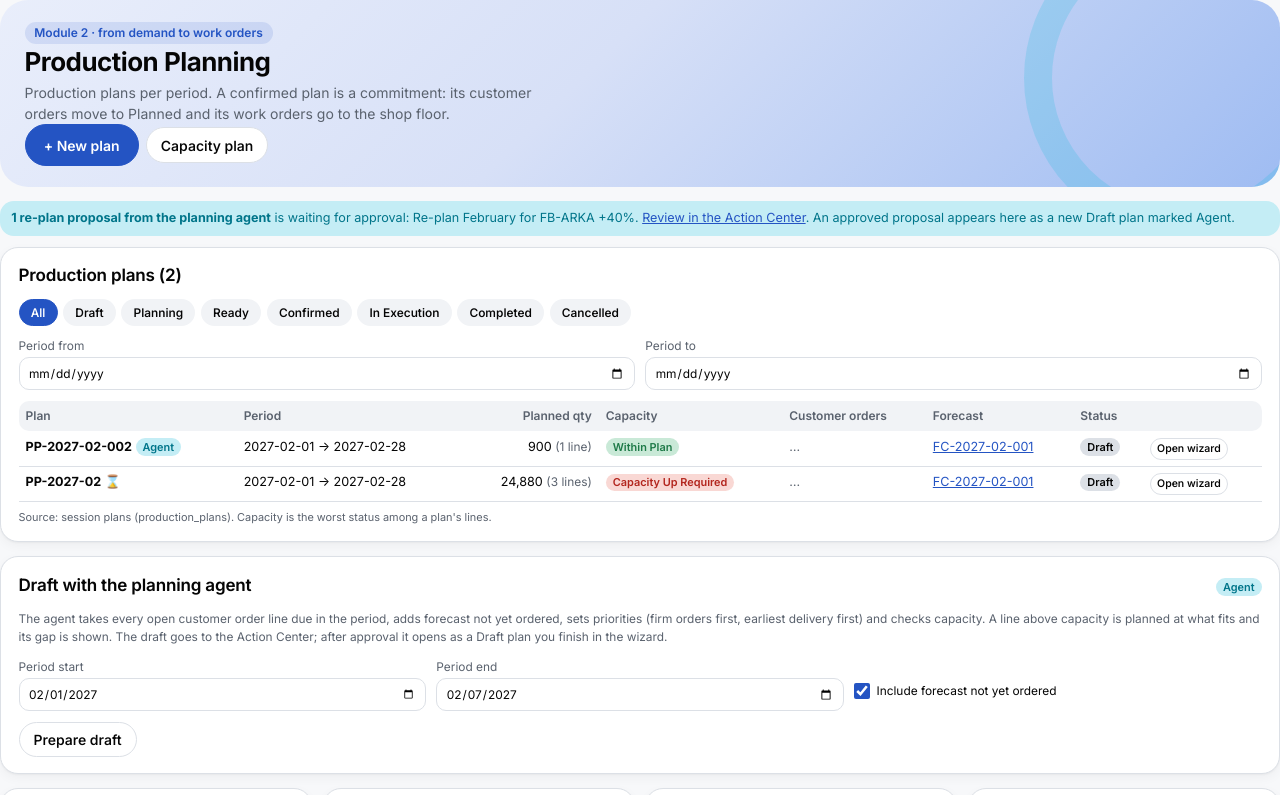
Test: drafts a plan with the planning agent and sends it for approval
The image size is (1280, 795).
Expected: the date field named "Draft period start" holds "2027-02-01", x1=18 y1=678 x2=426 y2=711
Expected: the date field named "Draft period end" holds "2027-02-07", x1=436 y1=678 x2=844 y2=711
Click the button "Prepare draft" at coordinates (78, 740), box x1=18 y1=722 x2=137 y2=757
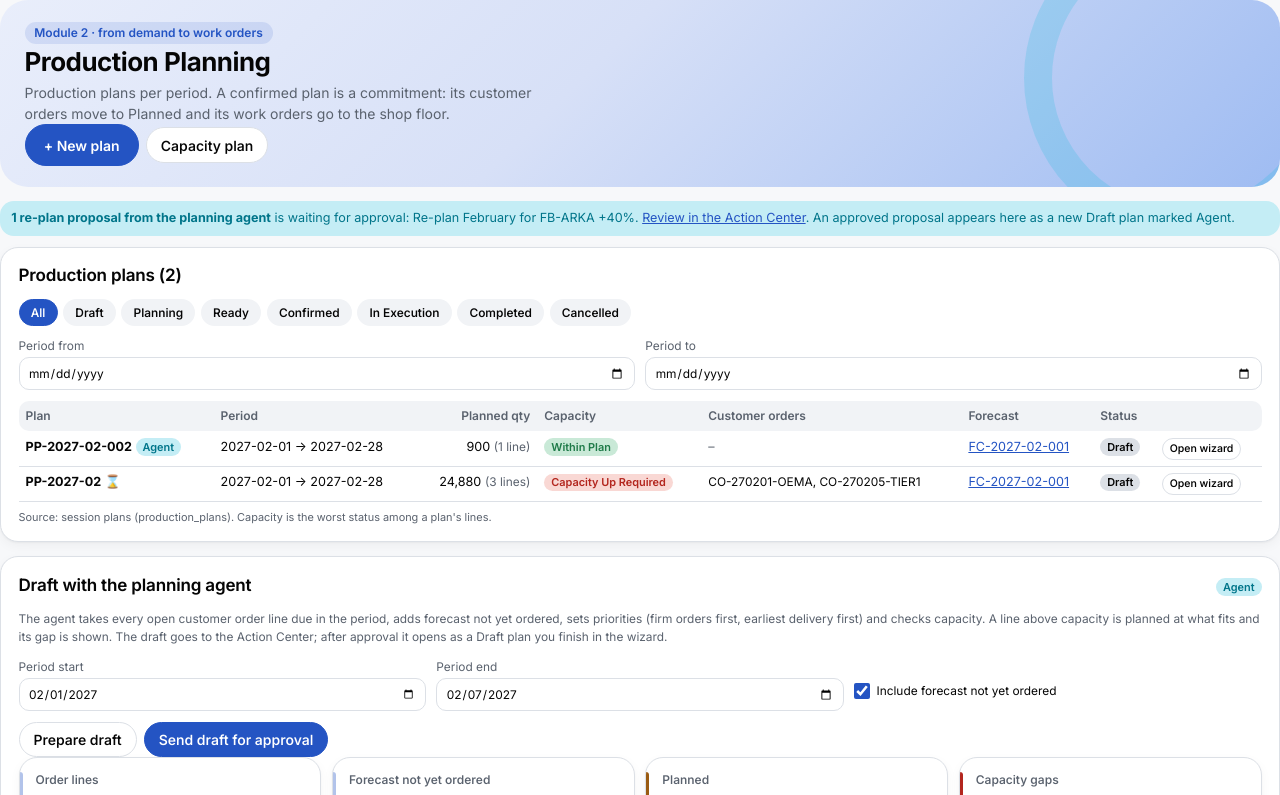
Click the button "Send draft for approval" at coordinates (236, 740), box x1=144 y1=722 x2=328 y2=757
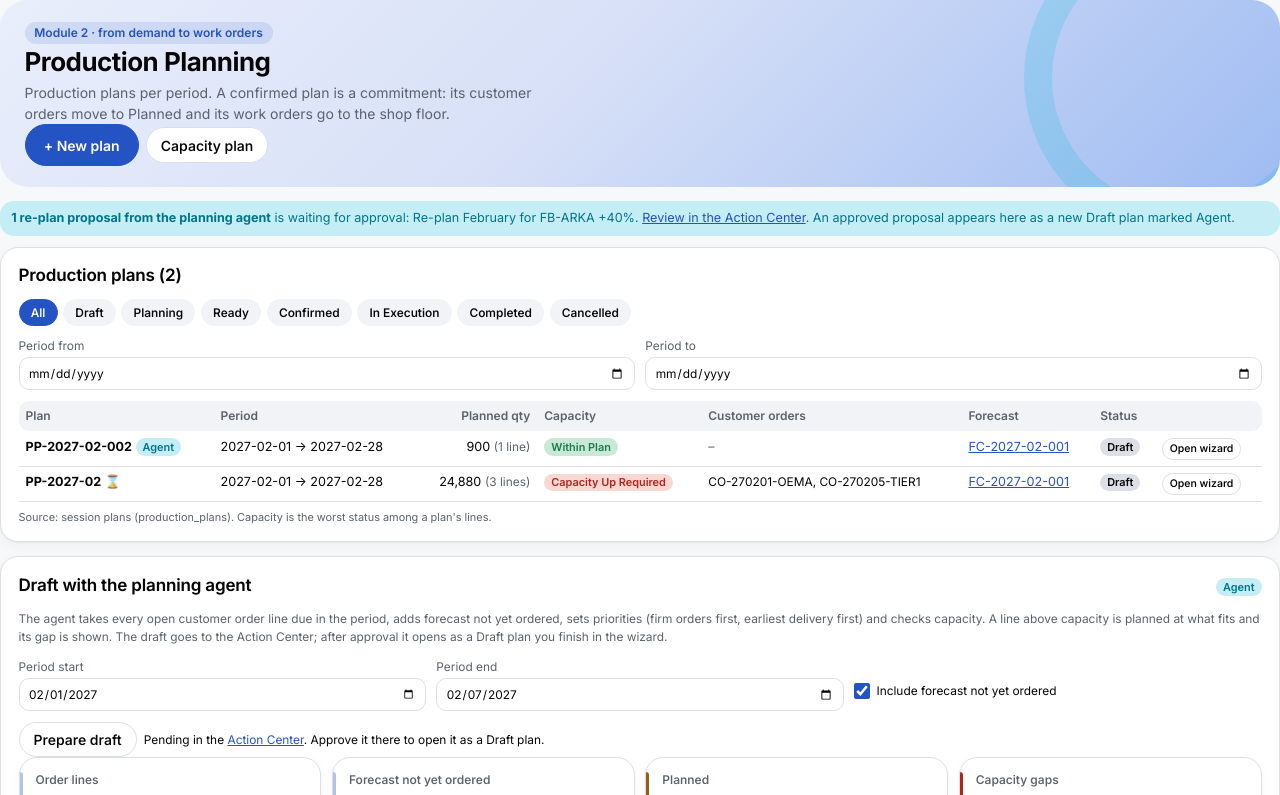
Result: the text "Approve it there to open it as a Draft plan" is shown at x1=304 y1=732 x2=544 y2=747
Result: the button "Send draft for approval" is gone
